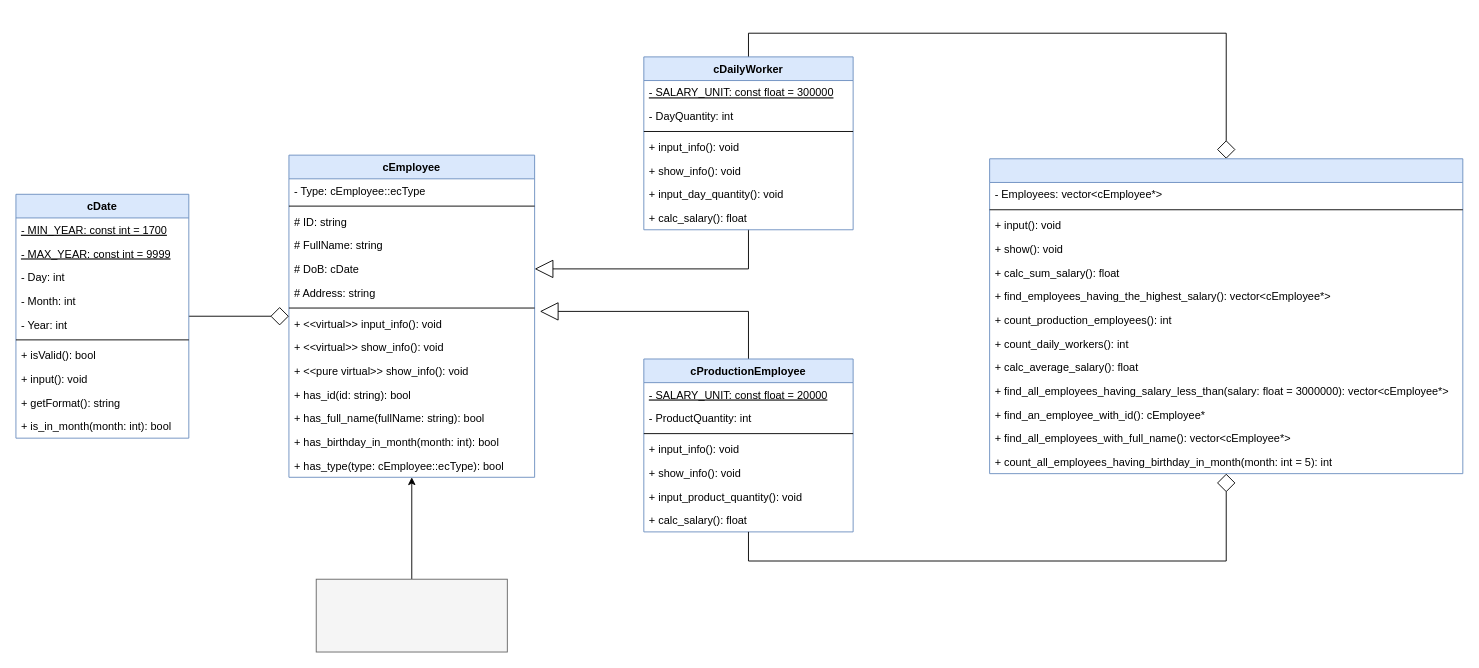
Image size: 1479x668. Some labels were removed from this diagram. Each missing label, with the box of its shape:
cCompany: (989, 158, 1463, 474)
cEmpolyee:ecType PRODUCTION_EMPLOYEE = 0 DAILY_WORKER = 1: (315, 578, 507, 652)
